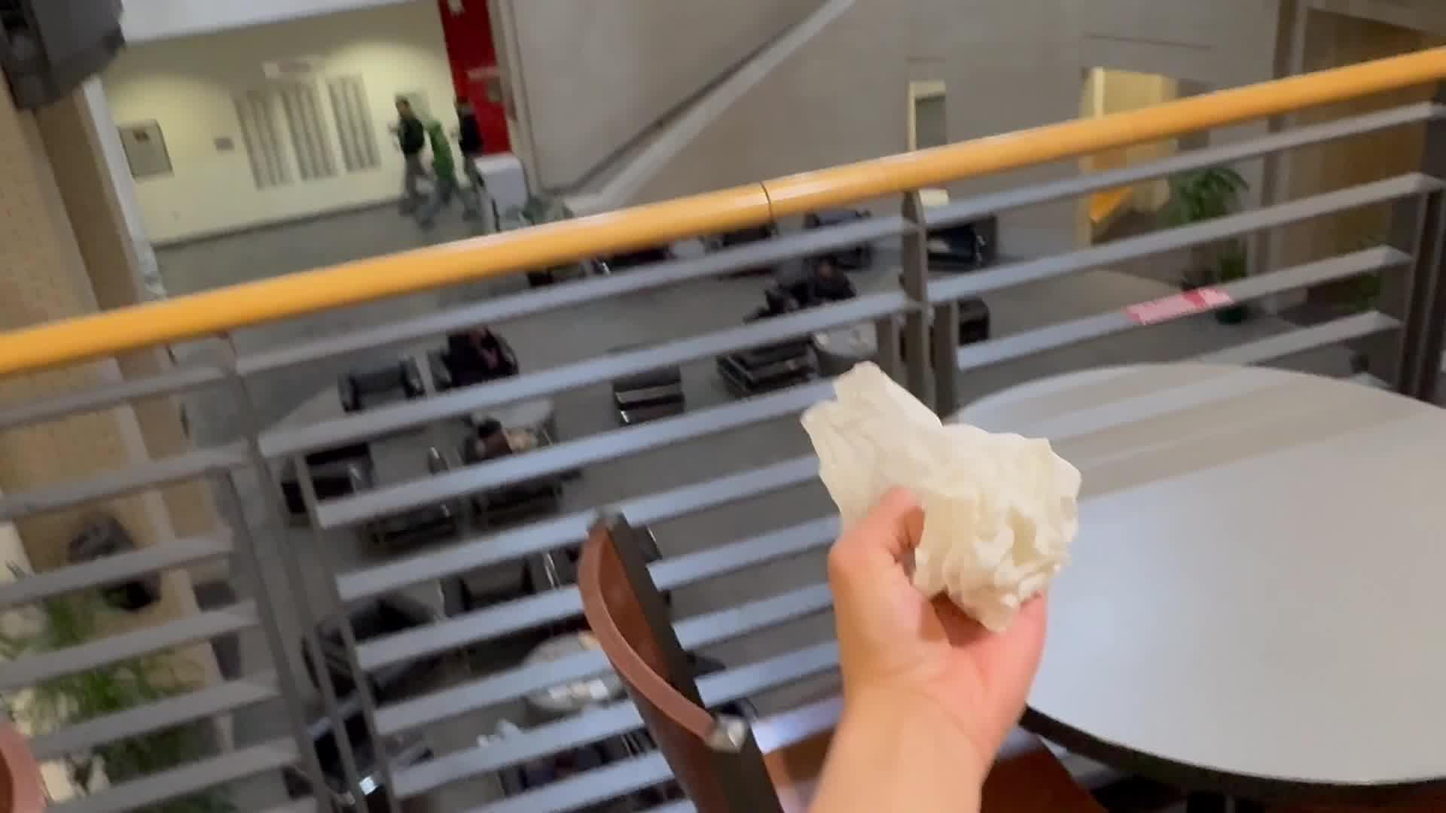napkin: (794, 353, 1087, 639)
